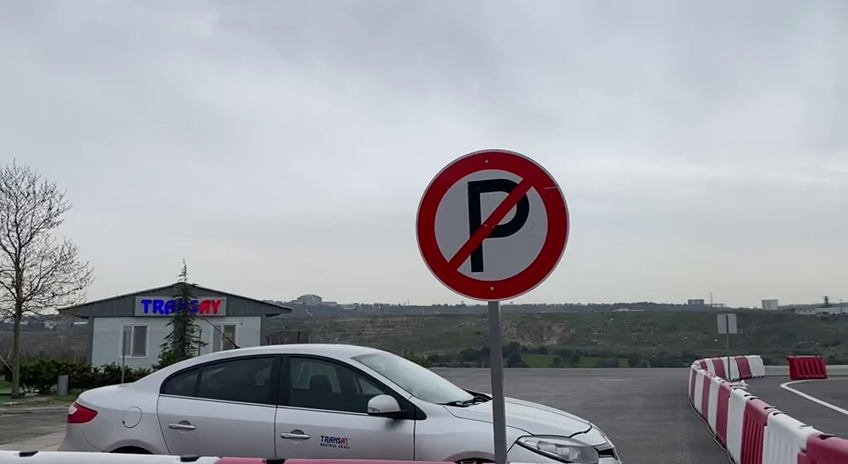noparking: (406, 144, 574, 311)
